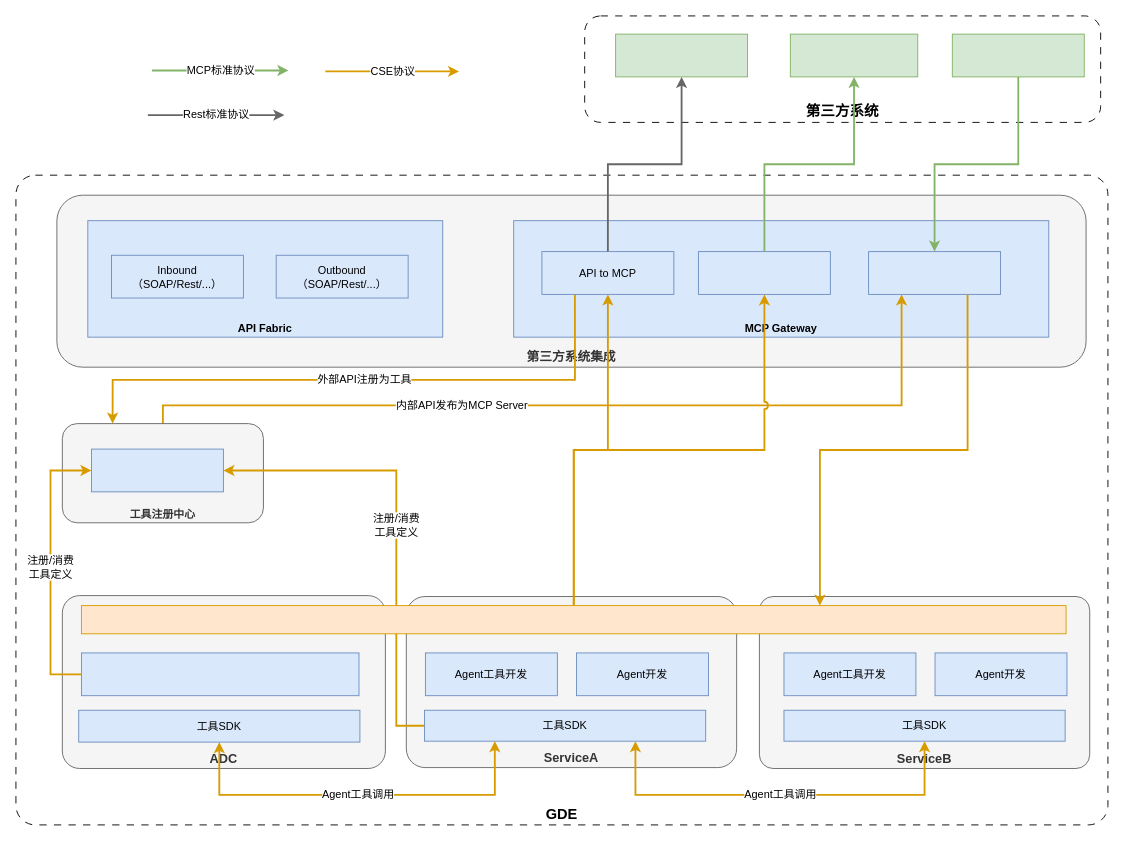
Some shapes in this 1124 by 841 pixel diagram are drawn without their labels. Each missing label, with the centre of its shape:
Agent Studio: point (220, 674)
CSE Endpoint: point (573, 619)
MCP Client: point (1017, 55)
MCP Inbound: point (934, 272)
MCP Outbound （实例部署）: point (764, 272)
MCP Server: point (853, 55)
工具目录: point (157, 470)
遗留系统 RestAPI: point (681, 55)
